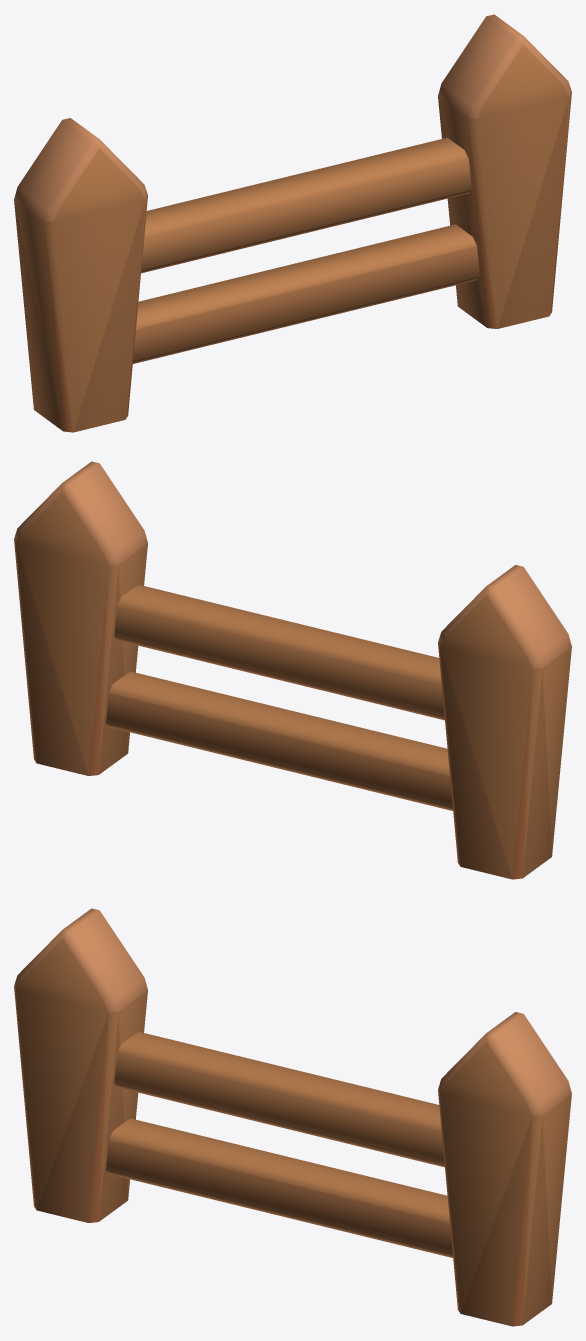
The model's file is itch_tiny_homely_house_fence_wide_long.glb.
3 views of the same model, one above another, from view 1: azimuth 30°, elevation 25°; view 2: azimuth 150°, elevation 25°; view 3: azimuth 330°, elevation 25° (orthographic).
Parts seen in each view (by area): view 1: fence_wide_long; view 2: fence_wide_long; view 3: fence_wide_long.
Part boxes in pixels (bbox=[...]): fence_wide_long: bbox=[14, 14, 571, 432]; fence_wide_long: bbox=[14, 461, 571, 879]; fence_wide_long: bbox=[14, 908, 571, 1326].
Size of the model in its own units: 1.18 by 0.6042 by 0.1419.
